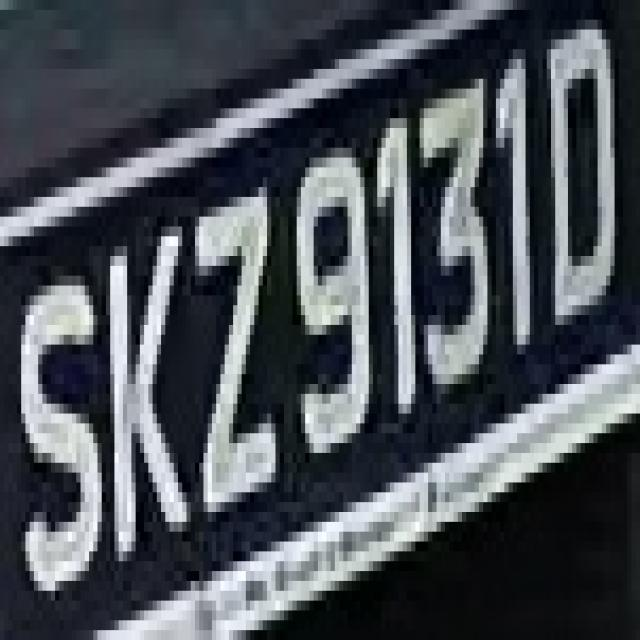1: (369, 59, 424, 453), (500, 39, 538, 394)
3: (420, 59, 500, 423)
9: (288, 118, 377, 473)
D: (538, 0, 618, 354)
K: (93, 197, 195, 581)
S: (8, 256, 98, 610)
Z: (182, 158, 288, 542)
